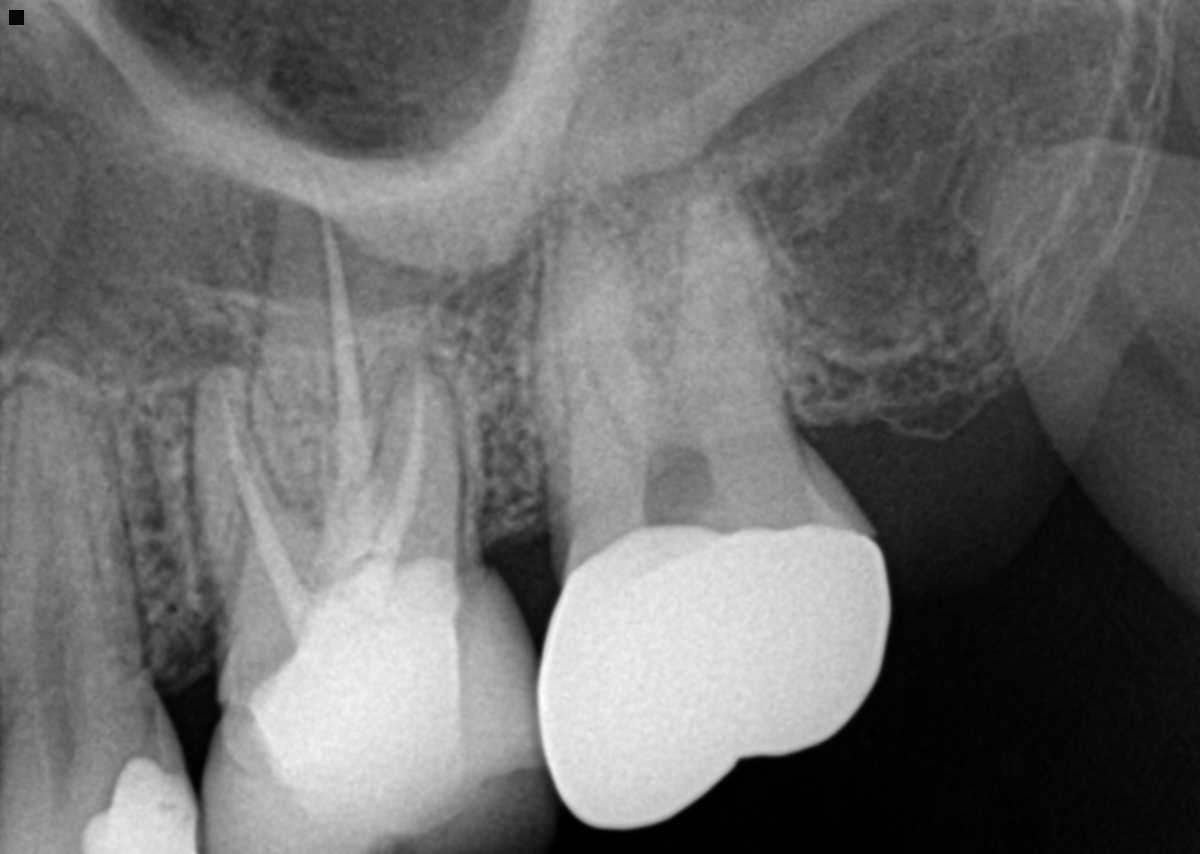Apical Lesion: (242, 31, 387, 249), (142, 324, 251, 434)
Distal Root: (666, 188, 789, 416), (351, 355, 463, 563)
Main Canal: (31, 432, 75, 702)
Main Root: (0, 335, 157, 703)
Mesial Canal: (581, 308, 657, 463)
Mesial Root: (189, 361, 321, 616), (545, 202, 663, 461)
Palatal Root: (228, 111, 463, 593), (557, 34, 787, 499)
Root Canal Filling: (311, 166, 390, 571), (343, 366, 424, 597)
